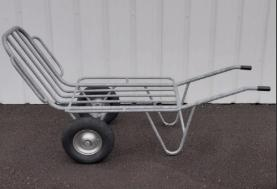BROUETTE: (2, 22, 272, 166)
